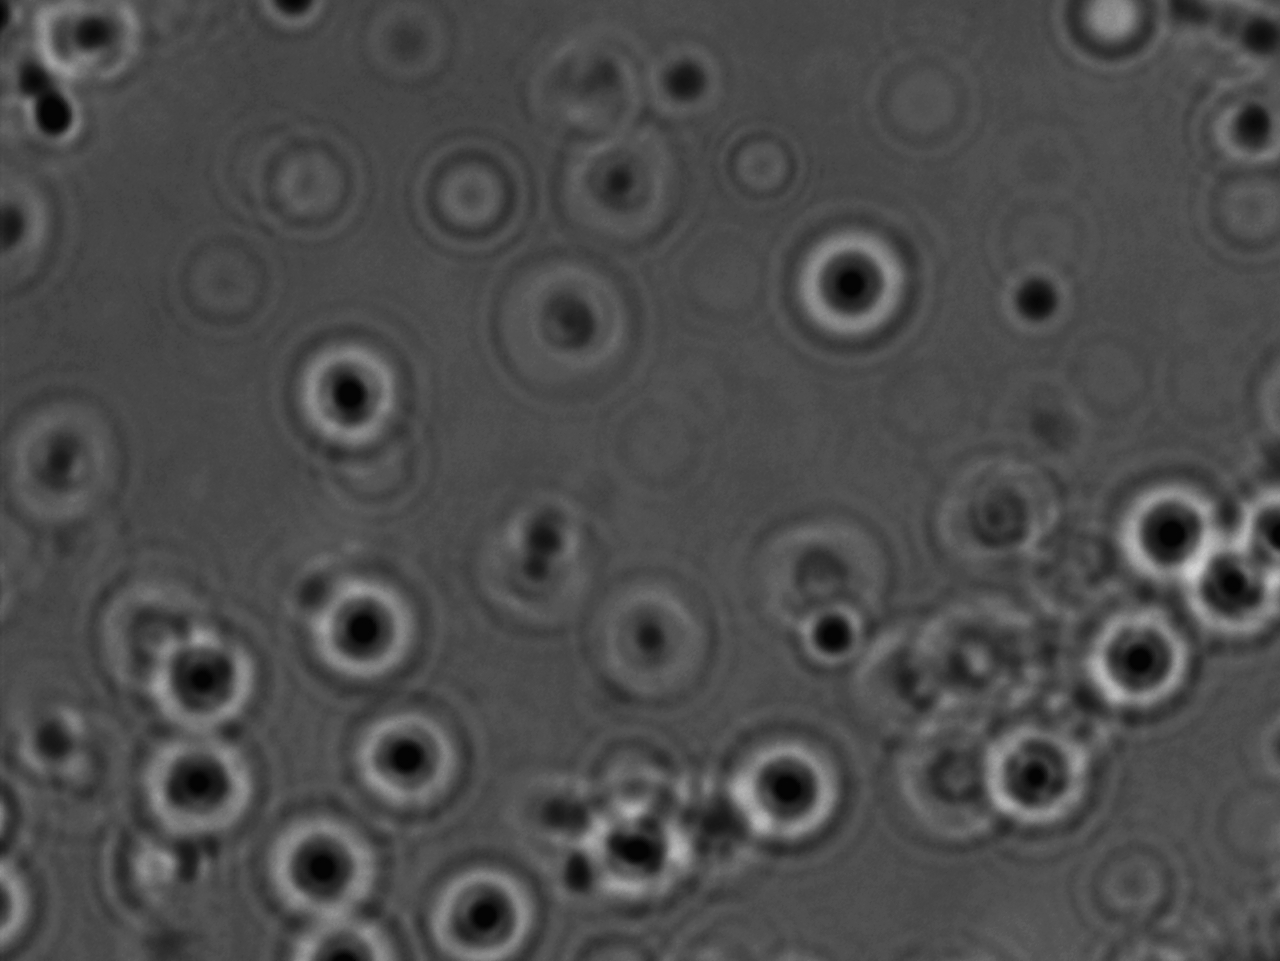depth:-24: (326, 684, 488, 832), (775, 208, 927, 355), (271, 322, 417, 471), (1048, 596, 1210, 725), (125, 717, 271, 857), (972, 721, 1116, 853), (295, 564, 434, 698), (717, 732, 853, 857), (261, 809, 395, 928), (146, 618, 269, 742), (1116, 459, 1232, 586), (411, 852, 546, 958)
